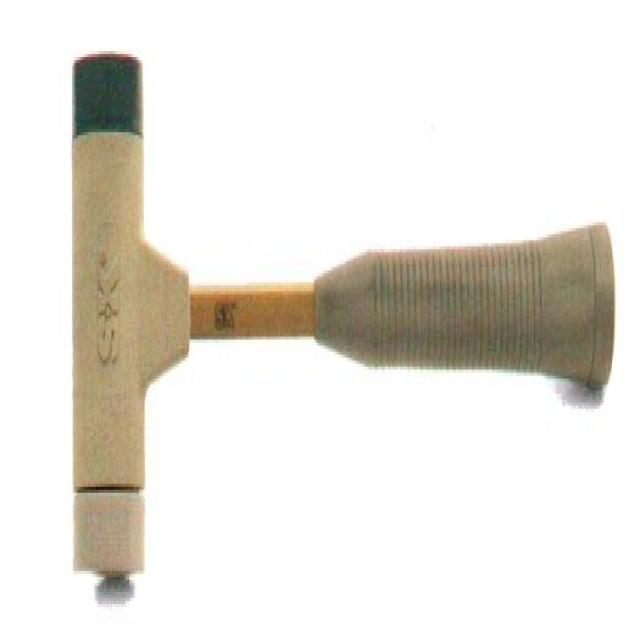hammer: (61, 34, 620, 596)
